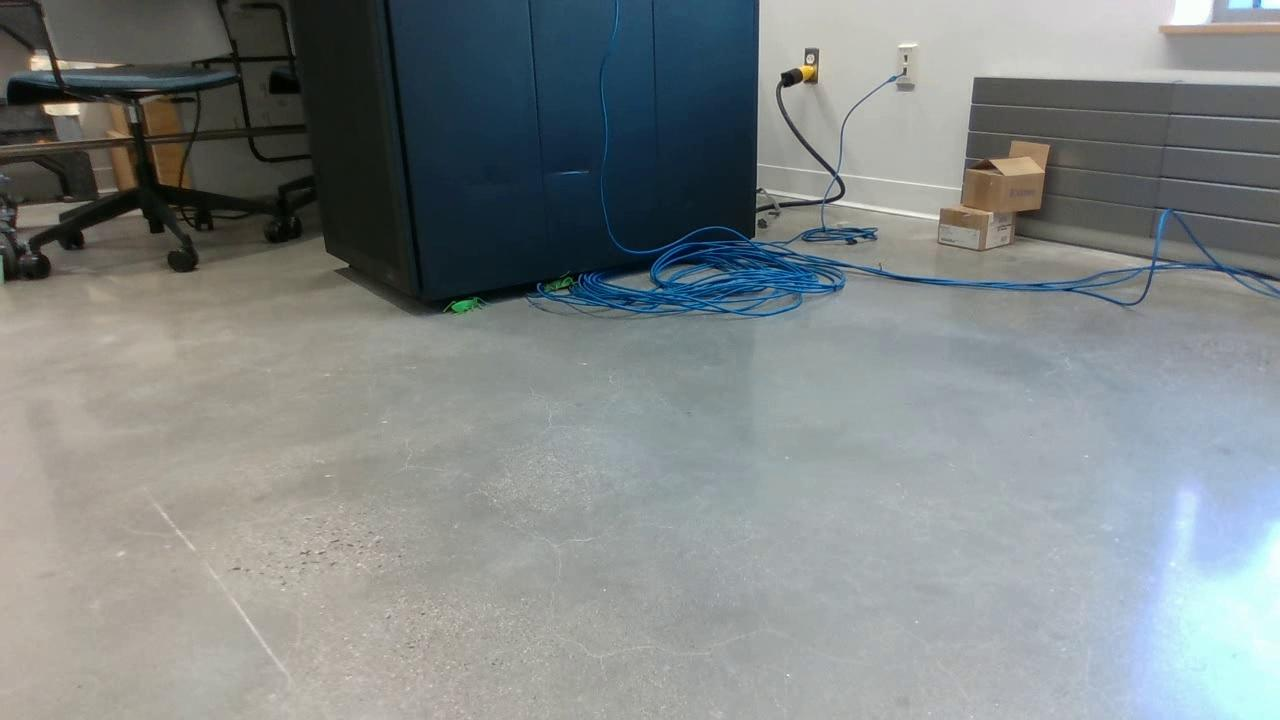grasshopper: (441, 300, 491, 314), (542, 275, 576, 292)
